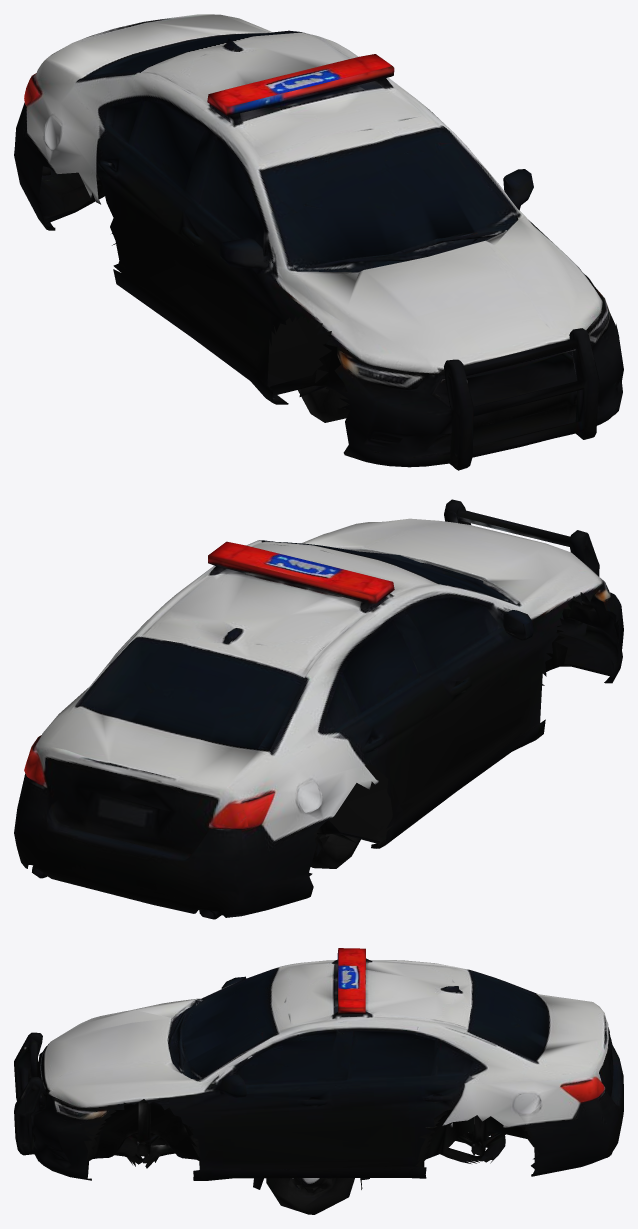
Rendered from police.glb.
The picture shows the model from 3 angles, top to bottom: view 1: azimuth 30°, elevation 25°; view 2: azimuth 150°, elevation 25°; view 3: azimuth 270°, elevation 25°; orthographic projection. The views are drawn at different scales.
Parts seen in each view (by area): view 1: body, wheel; view 2: body, wheel; view 3: body, wheel.
Boxes of the visible parts, bbox=[...] form: body: bbox=[14, 14, 623, 470]; wheel: bbox=[298, 316, 350, 422]; body: bbox=[14, 499, 623, 919]; wheel: bbox=[310, 834, 360, 868]; body: bbox=[14, 948, 623, 1180]; wheel: bbox=[253, 1178, 369, 1214].
Size of what is drawn, in the model's own units: 2.09 by 2.03 by 4.87.
Materials: 1 (1 with a texture image).
